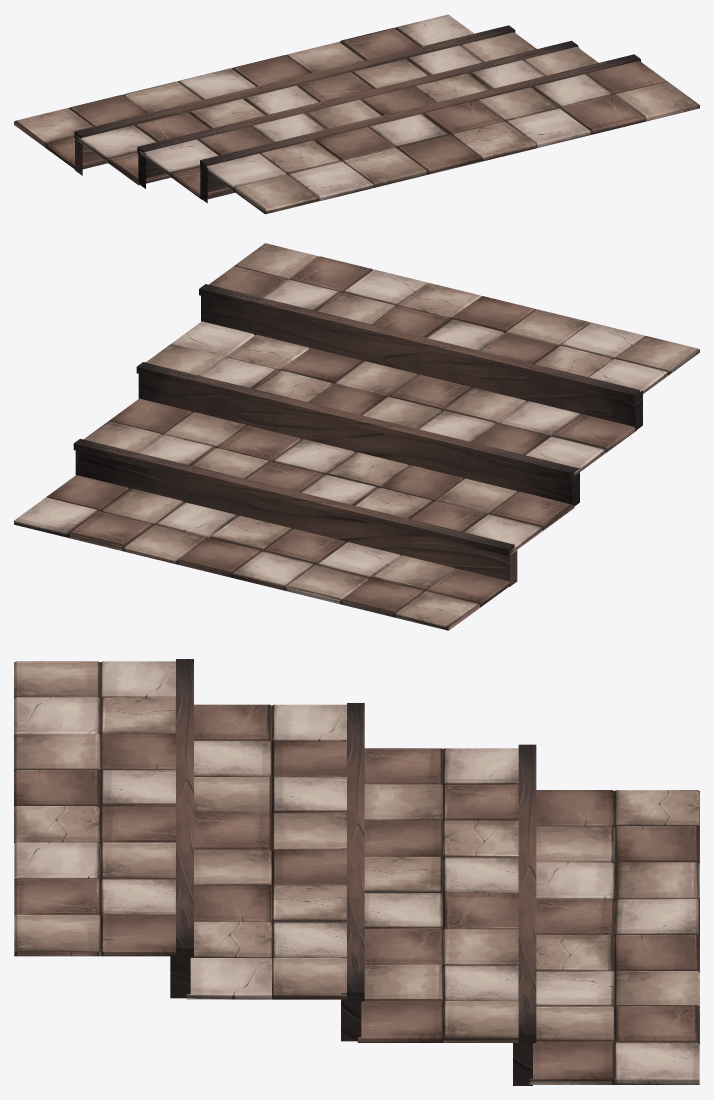
File: Floor_3_Steps_Straight.fbx
The picture shows the model from 3 angles, top to bottom: view 1: azimuth 30°, elevation 25°; view 2: azimuth 150°, elevation 25°; view 3: azimuth 270°, elevation 25°; orthographic projection. The views are drawn at different scales.
Visible parts, largest first — view 1: Floor_Stairs_3_Steps; view 2: Floor_Stairs_3_Steps; view 3: Floor_Stairs_3_Steps.
Part boxes in pixels (bbox=[...]): Floor_Stairs_3_Steps: bbox=[14, 14, 699, 214]; Floor_Stairs_3_Steps: bbox=[14, 243, 699, 630]; Floor_Stairs_3_Steps: bbox=[14, 659, 699, 1085].
Size of the model in its own units: 0.6004 by 0.1333 by 0.6006.
